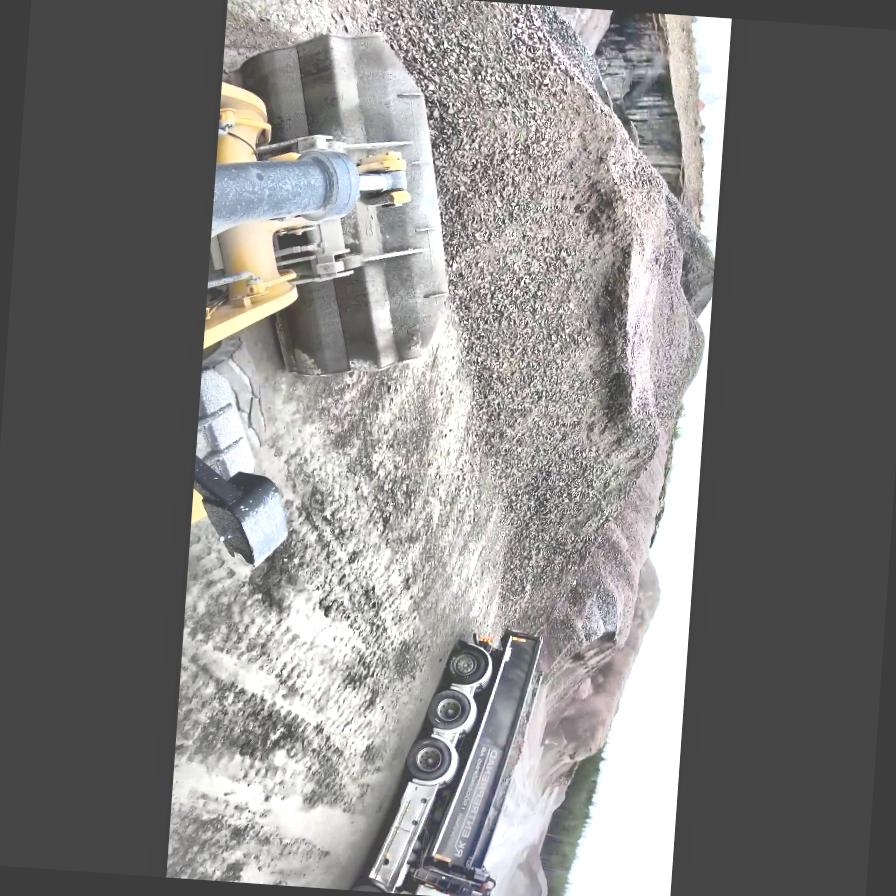anchor: (348, 148, 412, 210)
pile of gravel: (294, 0, 730, 651), (486, 428, 678, 687), (528, 545, 664, 789), (504, 843, 550, 896)
